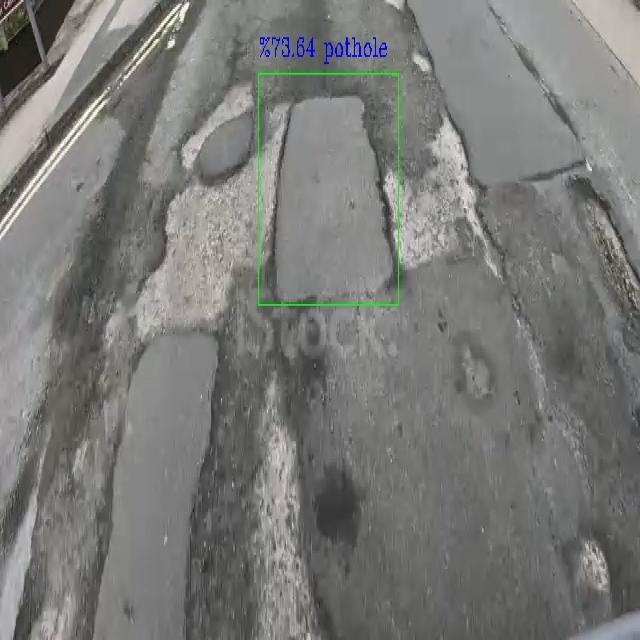pothole: (261, 76, 396, 301)
